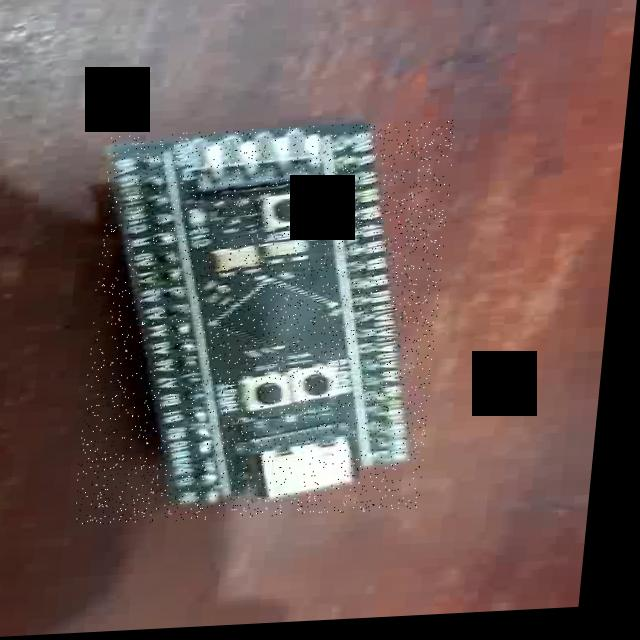stm32: (84, 124, 459, 528)
